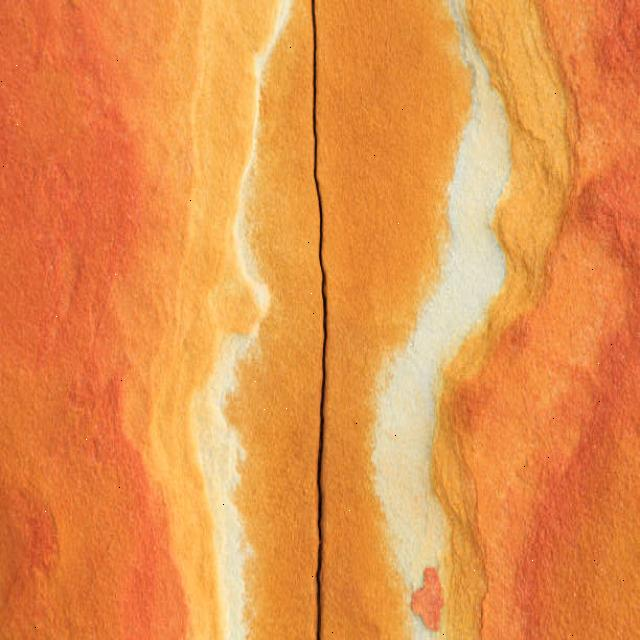Sedimentary: (317, 2, 640, 635), (4, 3, 322, 640)
